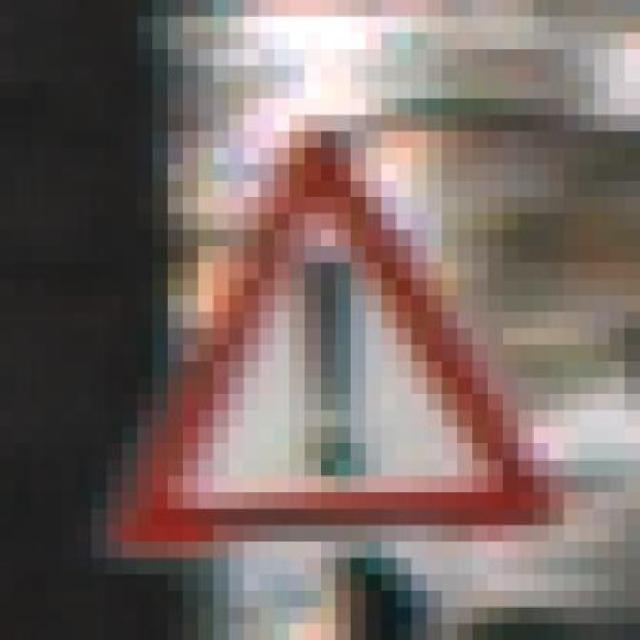Attention Please-: (46, 115, 580, 574)
